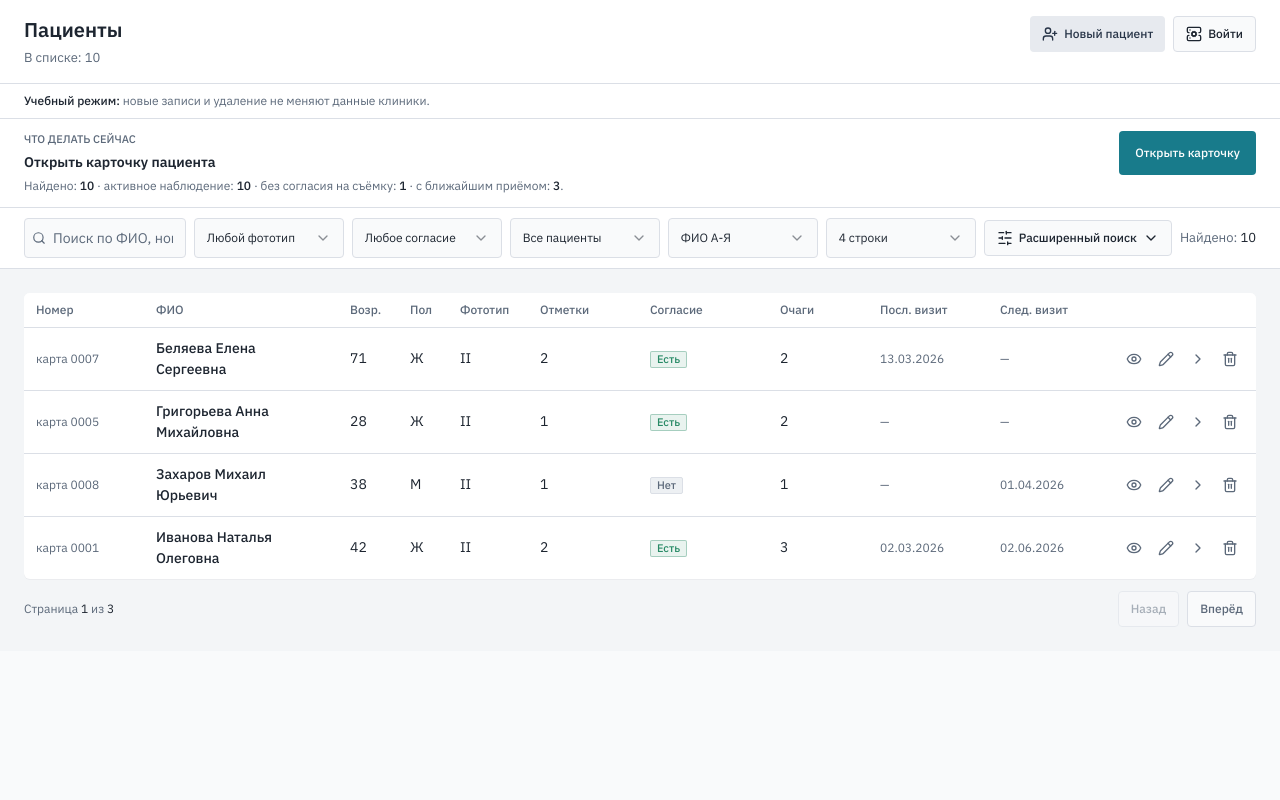
Scenario: PatientsPage › opens an edit dialog for an existing patient with current values
Click the button named "Редактировать пациента Иванова Наталья Олеговна". click: (1166, 548)
box: [1152,534,1180,562]
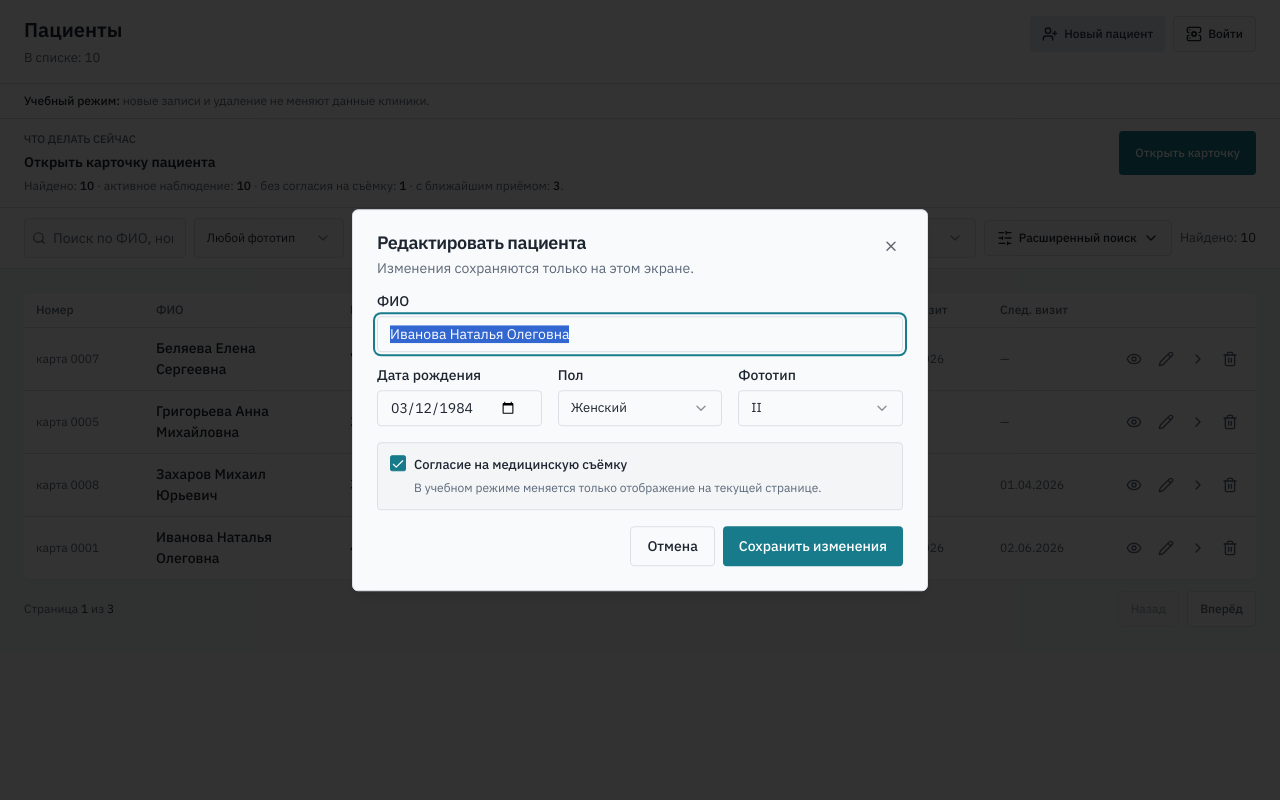
expect the field labelled "ФИО" holds "Иванова Наталья Олеговна": met, box [377,316,903,352]
expect the date field labelled "Дата рождения" holds "1984-03-12": met, box [377,390,542,426]
expect the text "Изменения сохраняются только на этом экране." is shown: met, box [377,259,694,277]
